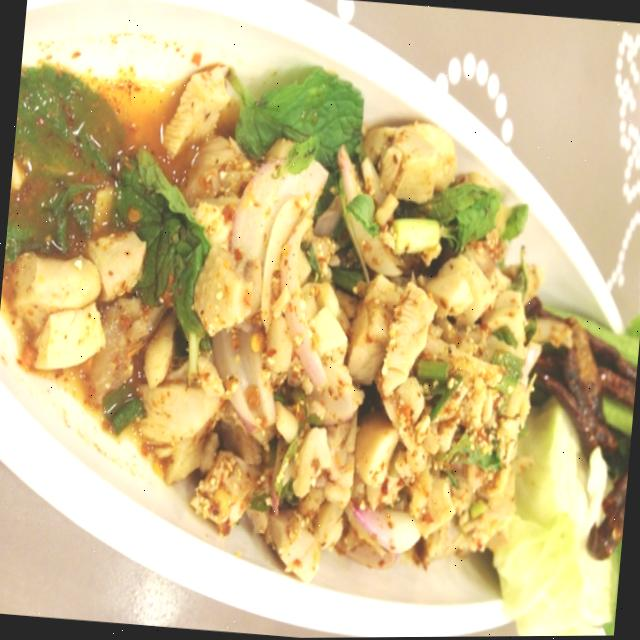鸡肉料理 含炸鸡: (7, 0, 640, 640)
